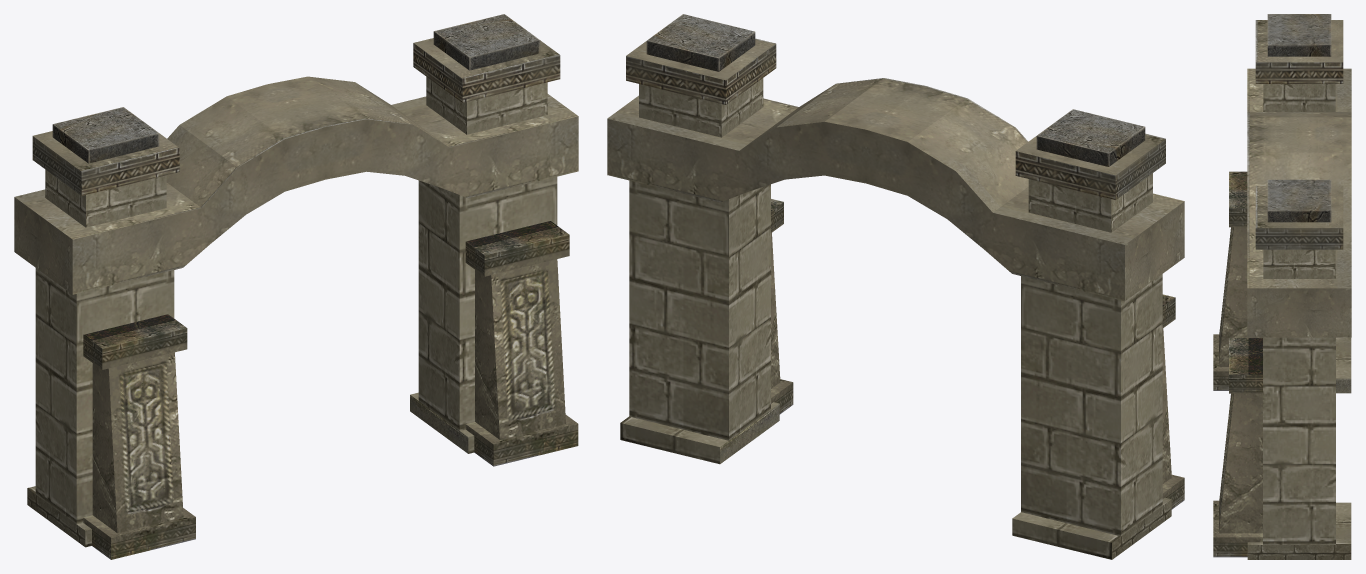
File: BraTrace004_01.FBX
3 renders of one model, left to right at view 1: azimuth 30°, elevation 25°; view 2: azimuth 150°, elevation 25°; view 3: azimuth 270°, elevation 25°, orthographic. The views are drawn at different scales.
Parts seen in each view (by area): view 1: BraTrace004_01; view 2: BraTrace004_01; view 3: BraTrace004_01.
Part boxes in pixels (x1=…): BraTrace004_01: x1=14, y1=14, x2=578, y2=559; BraTrace004_01: x1=607, y1=14, x2=1184, y2=559; BraTrace004_01: x1=1213, y1=14, x2=1351, y2=559.
Size of the model in its own units: 1346 by 980 by 357.
